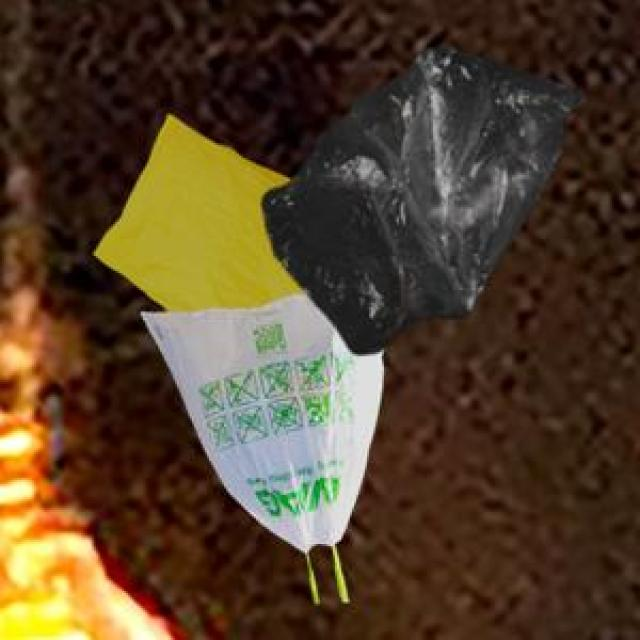plastic: (86, 47, 562, 608)
